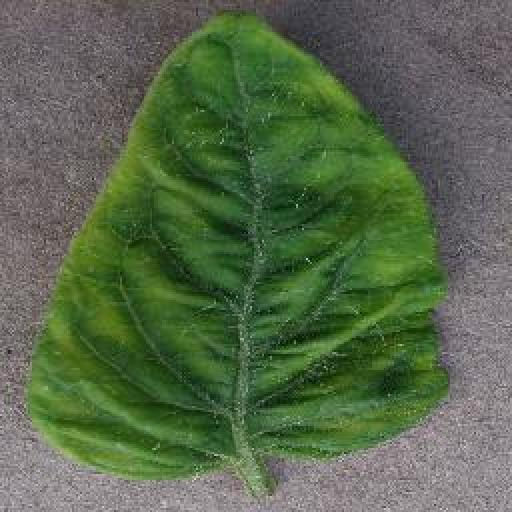Yellow Leaf Curl Virus: (22, 11, 452, 485)
